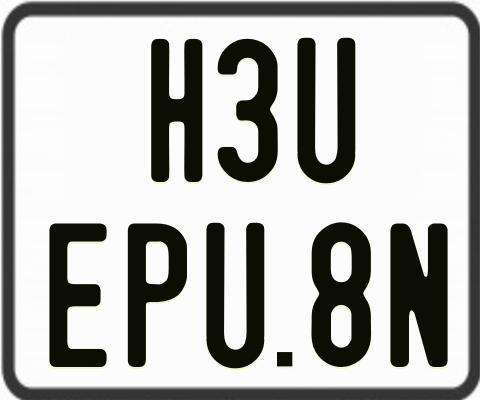3: (215, 37, 278, 184)
8: (308, 222, 373, 370)
E: (49, 222, 113, 371)
H: (150, 38, 205, 183)
N: (390, 222, 451, 368)
P: (127, 221, 191, 367)
U: (205, 222, 269, 367), (295, 36, 354, 183)
